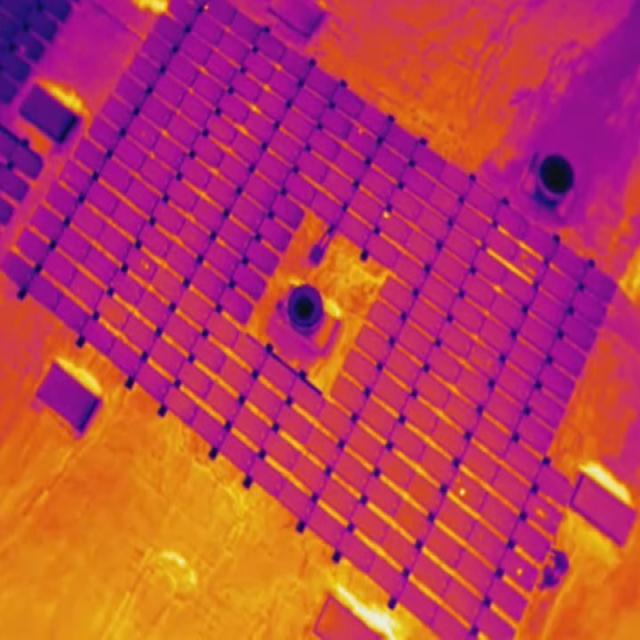Orange-Spots: (536, 507, 546, 519), (458, 487, 466, 498), (141, 260, 149, 270), (528, 267, 536, 276), (516, 568, 523, 577), (383, 211, 390, 218), (521, 253, 526, 260), (358, 128, 363, 134), (204, 5, 208, 10), (456, 478, 460, 483), (522, 264, 526, 269)
